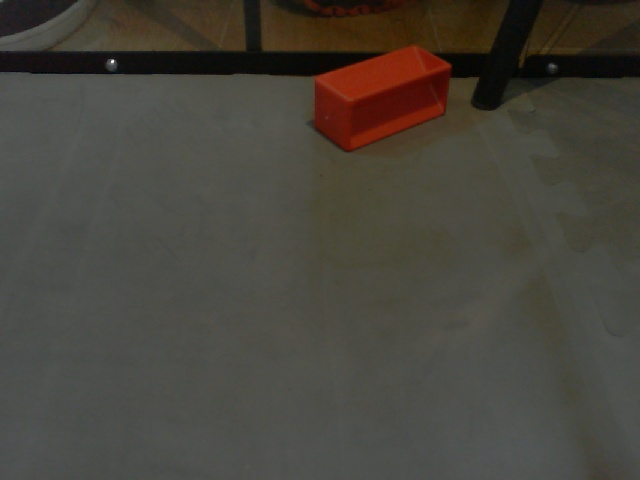RedSample: (312, 43, 451, 151)
